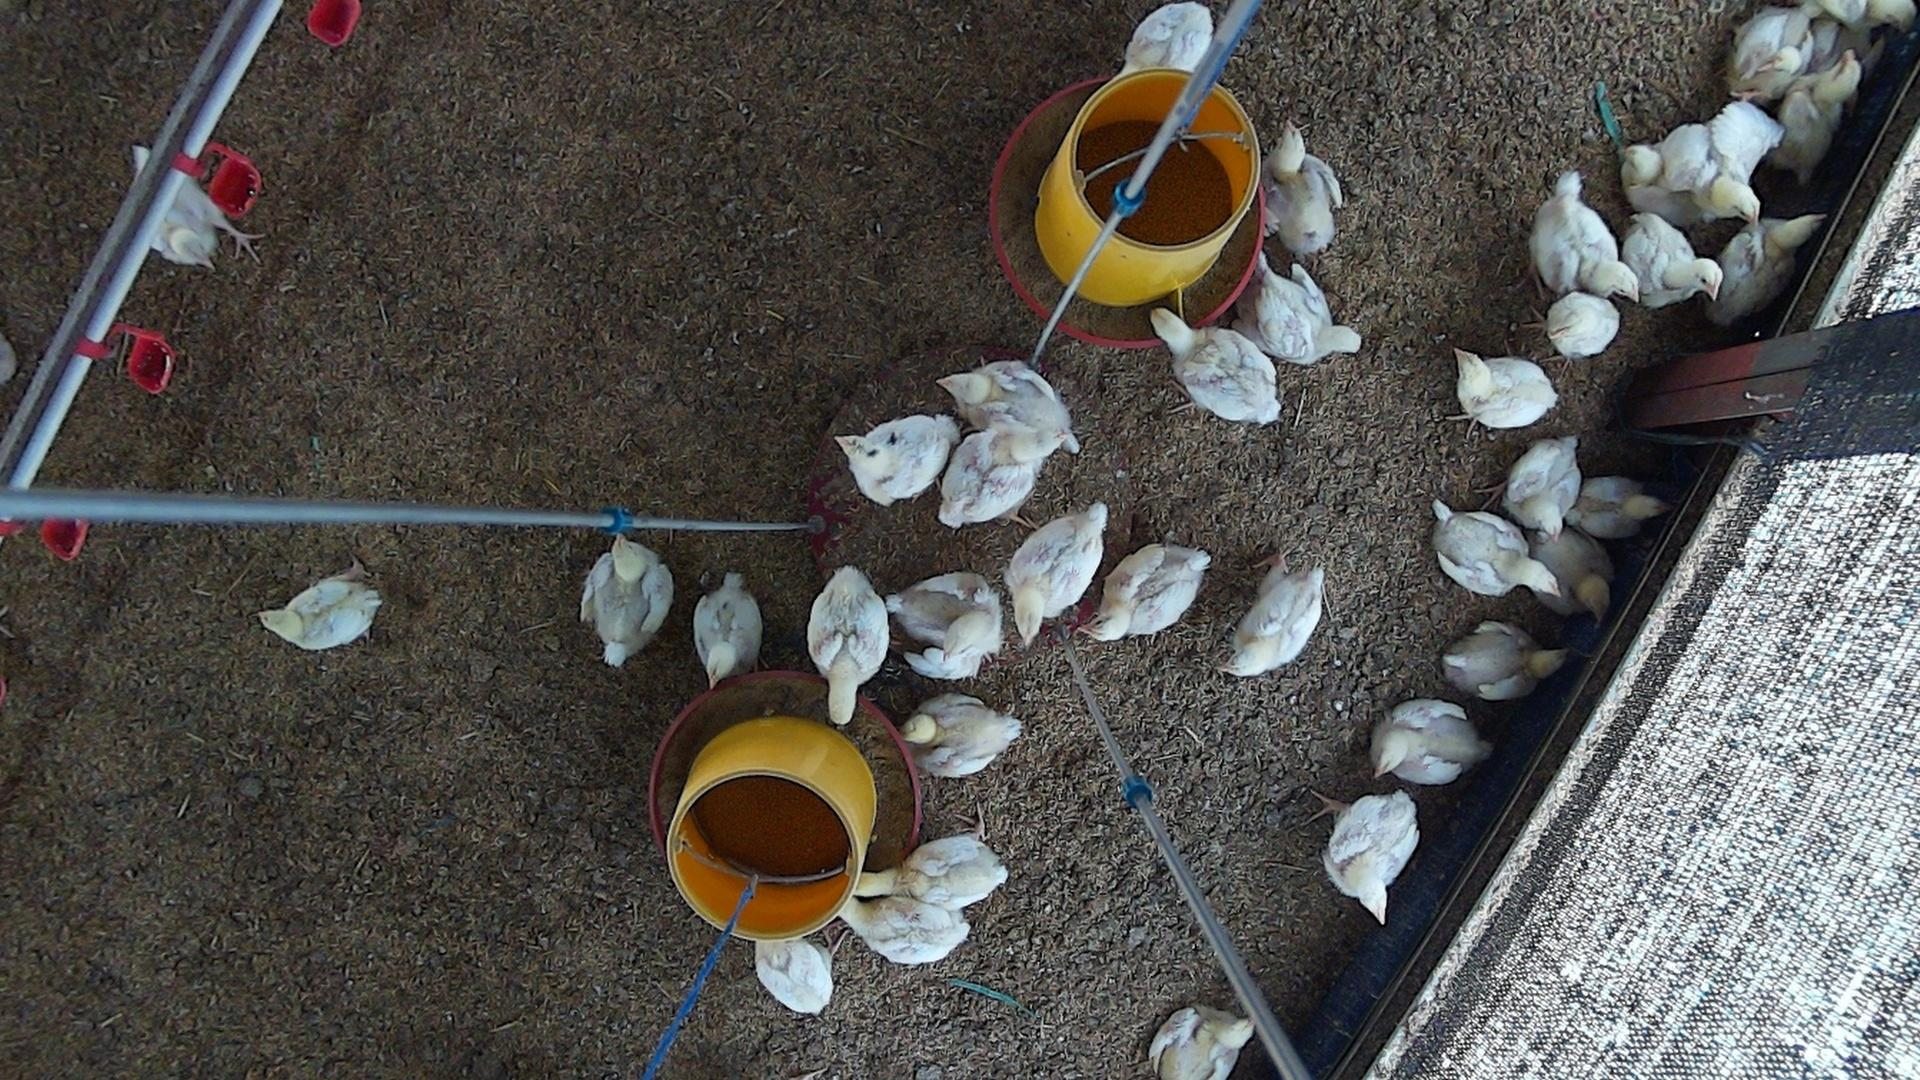ayam_broiler: (1005, 504, 1105, 646), (938, 421, 1068, 529), (1153, 313, 1279, 423), (1664, 103, 1776, 223), (807, 567, 889, 728), (1429, 501, 1560, 597), (887, 572, 1002, 682), (1324, 791, 1419, 923), (942, 361, 1080, 451), (1531, 173, 1633, 293), (580, 537, 673, 669), (1225, 554, 1323, 676), (852, 833, 1007, 909), (1089, 543, 1211, 640), (1776, 49, 1861, 182), (836, 414, 959, 505), (1259, 123, 1340, 257), (1258, 260, 1360, 364), (901, 696, 1022, 779), (258, 570, 382, 650), (1374, 700, 1489, 785), (1623, 216, 1724, 309), (1443, 622, 1561, 700), (1731, 7, 1828, 99), (1710, 222, 1793, 327), (839, 901, 969, 967), (692, 574, 761, 687), (1457, 353, 1557, 429), (1151, 1007, 1254, 1080), (1506, 438, 1581, 533), (1531, 530, 1611, 612), (756, 935, 832, 1015), (1572, 476, 1662, 538), (1547, 294, 1619, 359)
